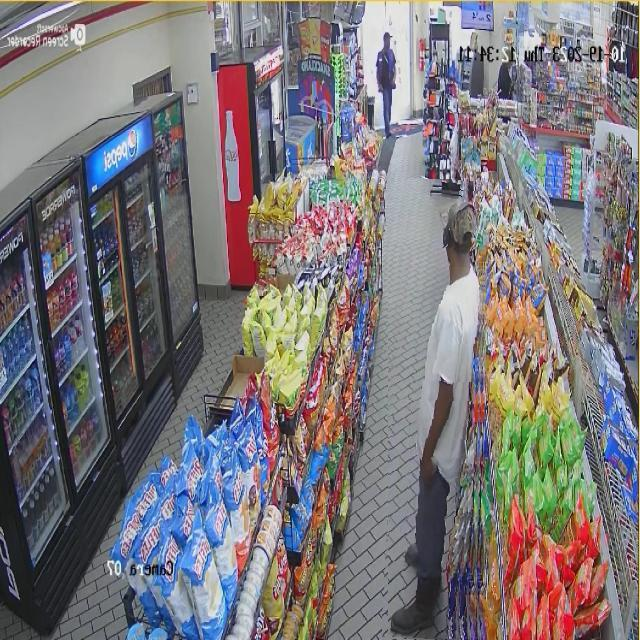Normal: (388, 179, 486, 640), (372, 27, 398, 140)
